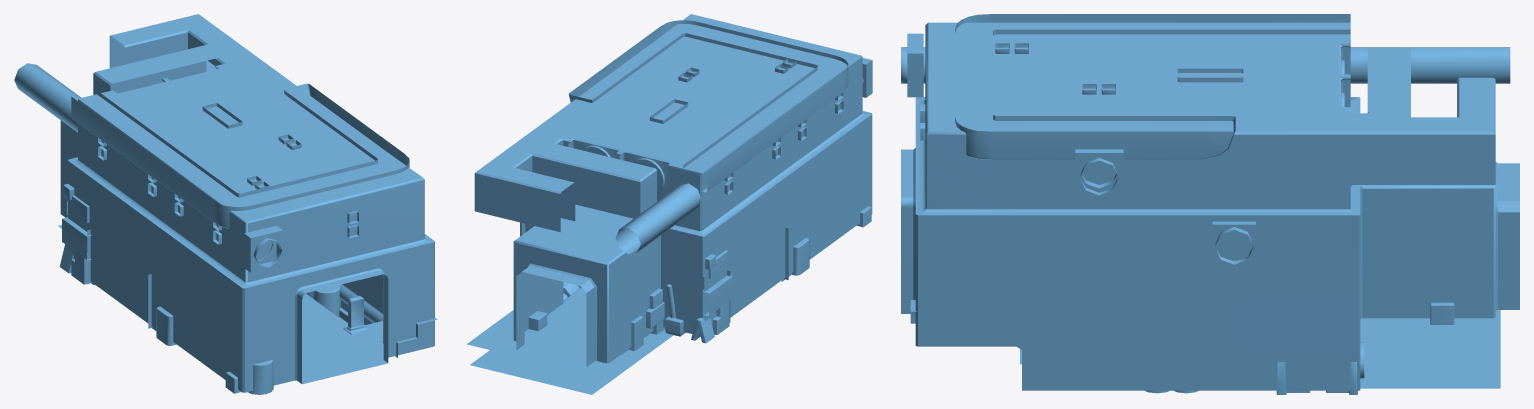
Rendered from effectproxies_warehouse_barrierfloor_nn_01.fbx.
The picture shows the model from 3 angles, left to right: view 1: azimuth 30°, elevation 25°; view 2: azimuth 150°, elevation 25°; view 3: azimuth 270°, elevation 25°; orthographic projection. The views are drawn at different scales.
Parts seen in each view (by area): view 1: Barrier_floor02.001; view 2: Barrier_floor02.001; view 3: Barrier_floor02.001.
Boxes of the visible parts, x1,y1,x2,y2 form: Barrier_floor02.001: [14, 14, 437, 394]; Barrier_floor02.001: [467, 14, 872, 394]; Barrier_floor02.001: [901, 14, 1519, 394].
Bounding box in the file's own units: 31.25 × 30 × 64.
